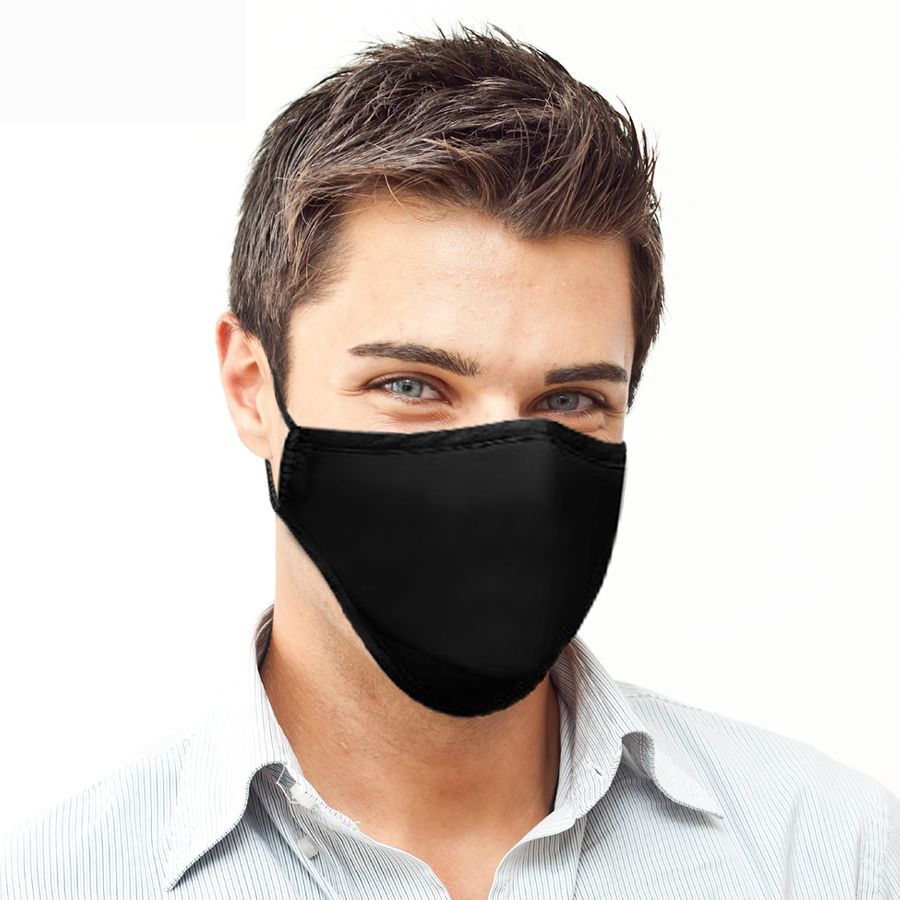face_mask: (291, 209, 635, 678)
